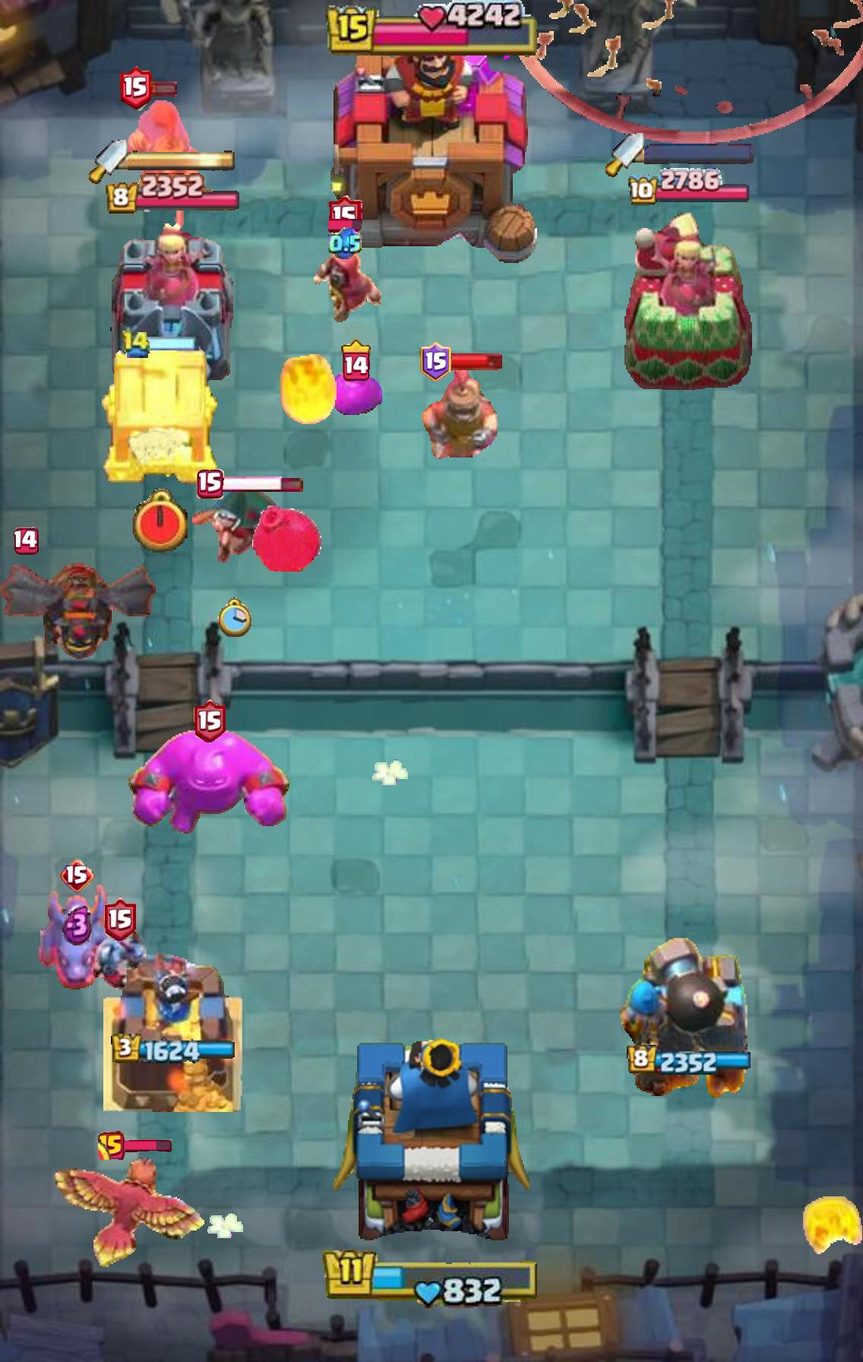bar: (220, 474, 304, 494), (448, 353, 503, 371), (122, 1140, 173, 1153), (149, 81, 178, 97)
bar-level: (328, 195, 362, 241), (120, 66, 153, 111), (194, 699, 226, 743), (104, 898, 136, 942), (420, 342, 452, 382), (341, 339, 370, 382), (60, 858, 95, 893), (197, 469, 224, 499), (98, 1131, 125, 1161), (13, 527, 39, 555)
